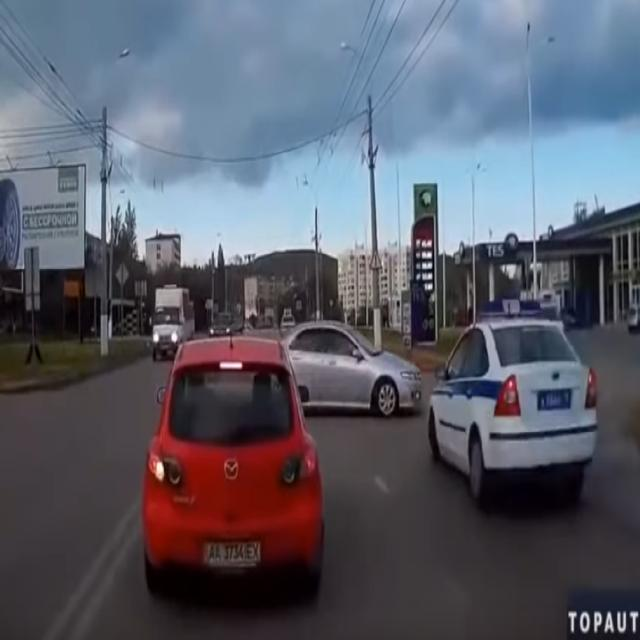non emergency car: (144, 335, 327, 601), (288, 320, 418, 416), (152, 285, 196, 362)
police car: (429, 299, 599, 513)
